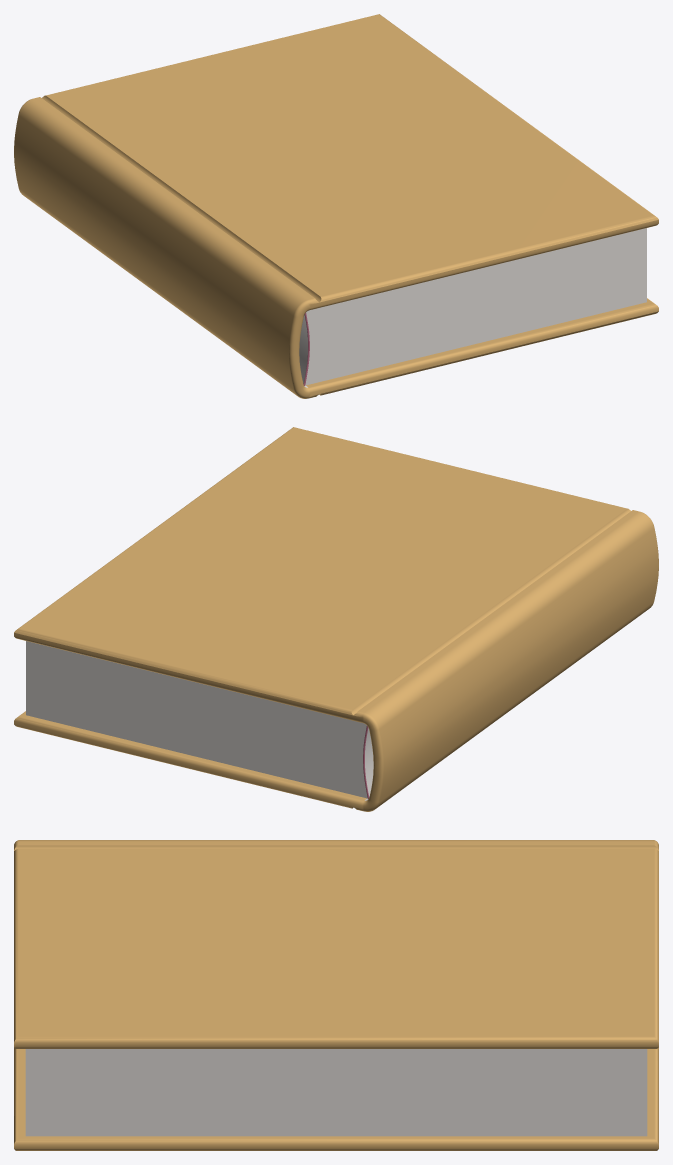
3 views of the same model, one above another, from view 1: azimuth 30°, elevation 25°; view 2: azimuth 150°, elevation 25°; view 3: azimuth 270°, elevation 25° (orthographic). The views are drawn at different scales.
Visible parts, largest first — view 1: Geode; view 2: Geode; view 3: Geode.
Part boxes in pixels (left/top/right/bottom): Geode: left=14, top=14, right=658, bottom=398; Geode: left=14, top=427, right=658, bottom=811; Geode: left=14, top=840, right=658, bottom=1150.
Size of the model in its own units: 0.1668 by 0.0428 by 0.2188.
1 material, 1 textured.
